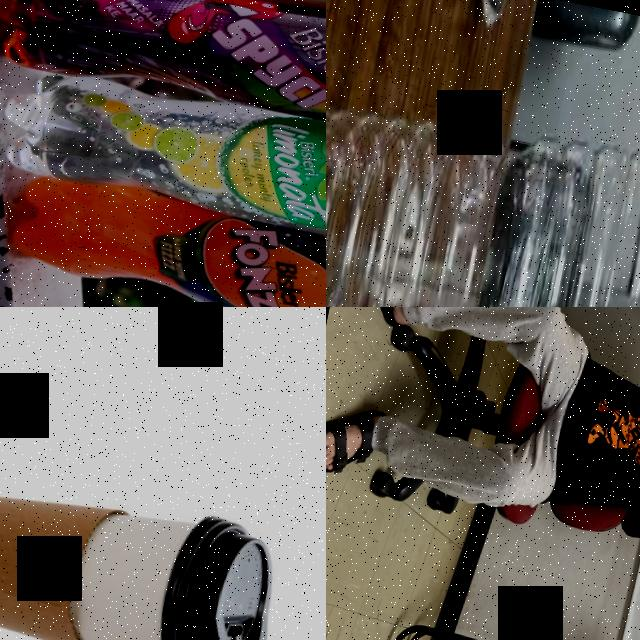bottle: (326, 70, 640, 307), (0, 54, 326, 275), (0, 0, 326, 162), (0, 167, 326, 307)
cup: (0, 449, 289, 640)
